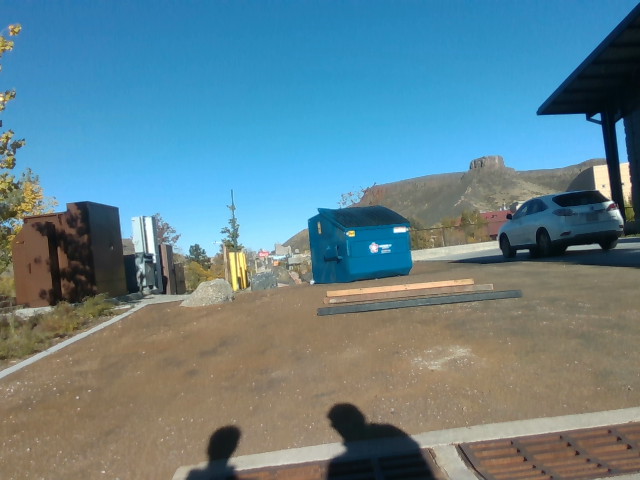Dunnage: (307, 269, 528, 322)
